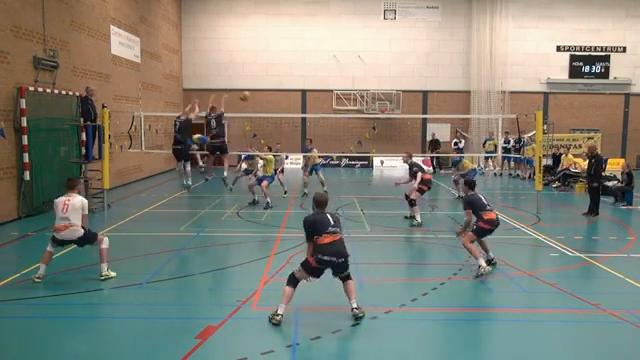attacco: (183, 129, 215, 174)
muro: (169, 96, 201, 192), (201, 90, 229, 187)
